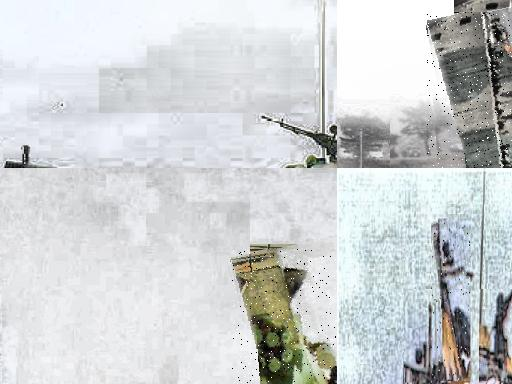tanks: (428, 14, 512, 169), (232, 250, 325, 384), (432, 223, 471, 384), (276, 121, 338, 169), (23, 147, 29, 165)
